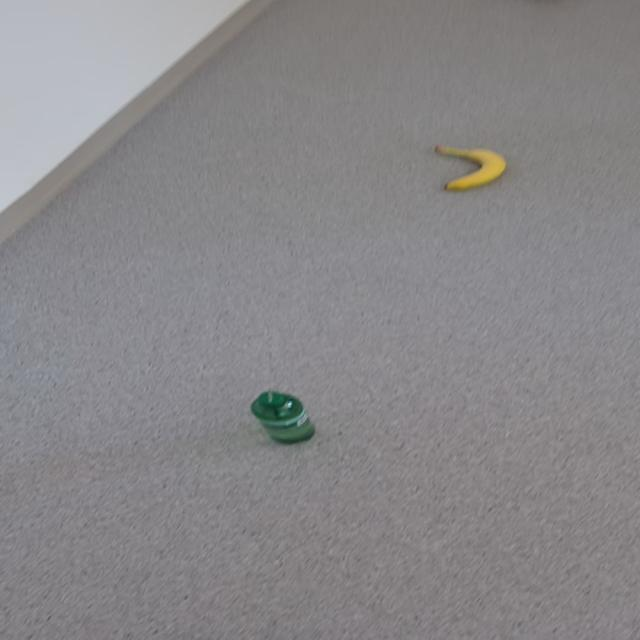banana: (433, 144, 506, 191)
bottle: (249, 390, 315, 444)
